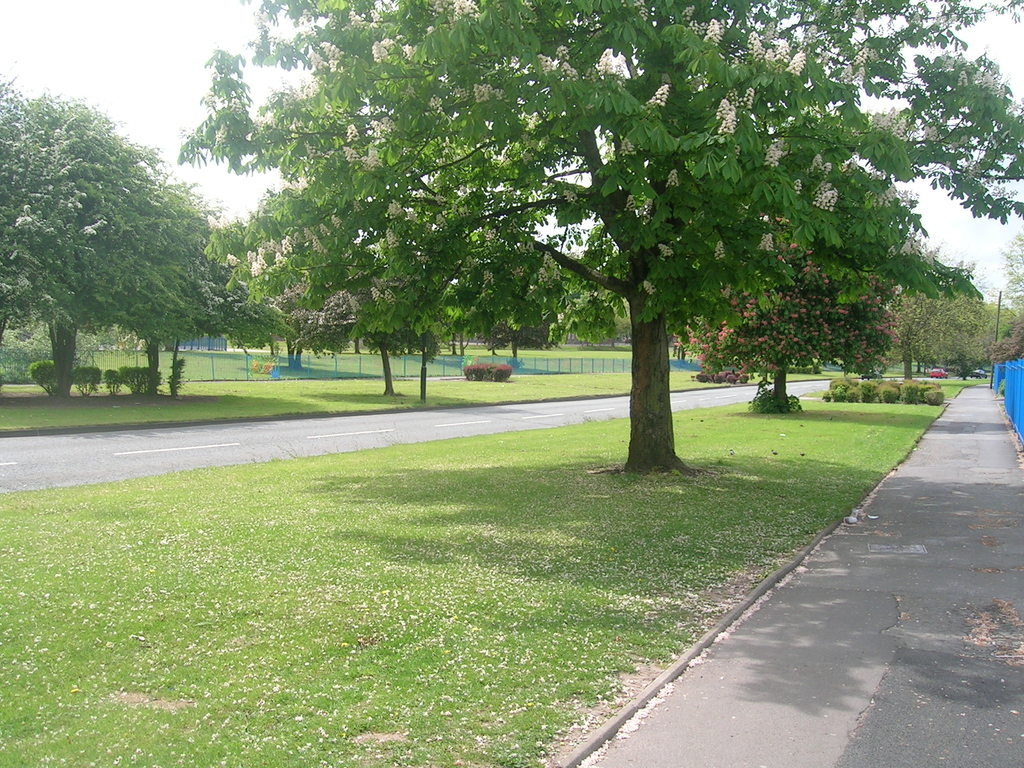tree: (175, 1, 1024, 479)
